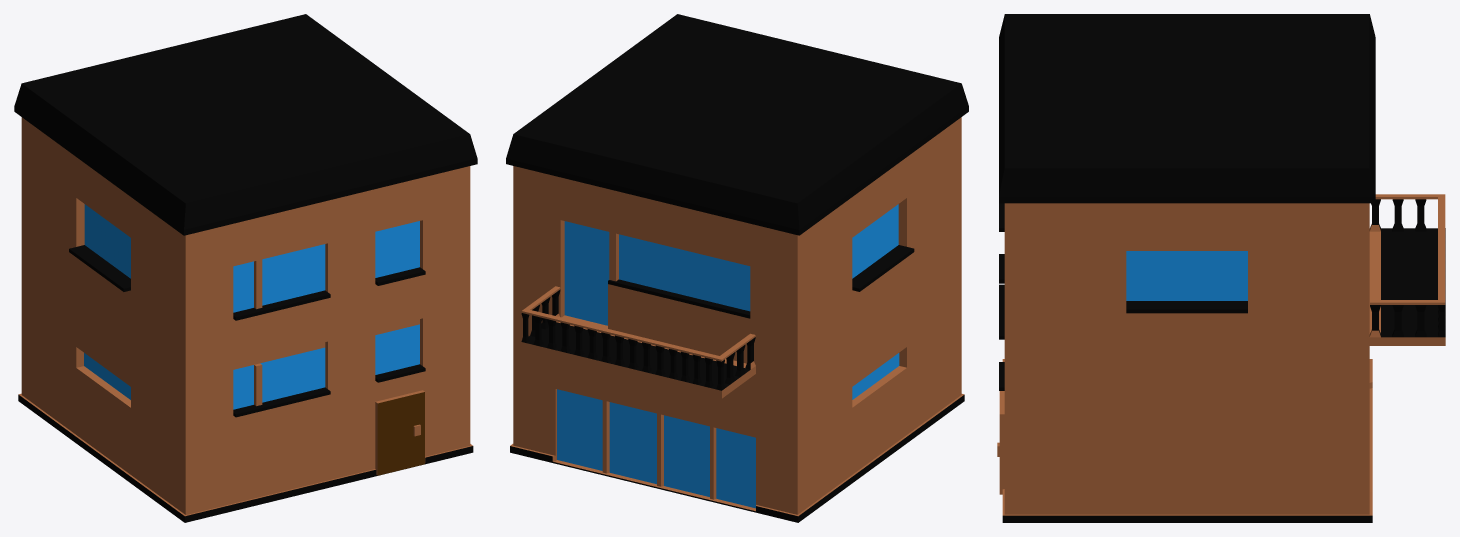
Rendered from Building-H4.fbx.
3 views of the same model, side by side, from view 1: azimuth 30°, elevation 25°; view 2: azimuth 150°, elevation 25°; view 3: azimuth 270°, elevation 25° (orthographic). The views are drawn at different scales.
Parts seen in each view (by area): view 1: Cube; view 2: Cube; view 3: Cube.
Boxes of the visible parts, x1,y1,x2,y2 form: Cube: (14, 14, 477, 522); Cube: (506, 14, 968, 522); Cube: (997, 14, 1445, 522).
Bounding box in the file's own units: 144 × 146 × 168.
